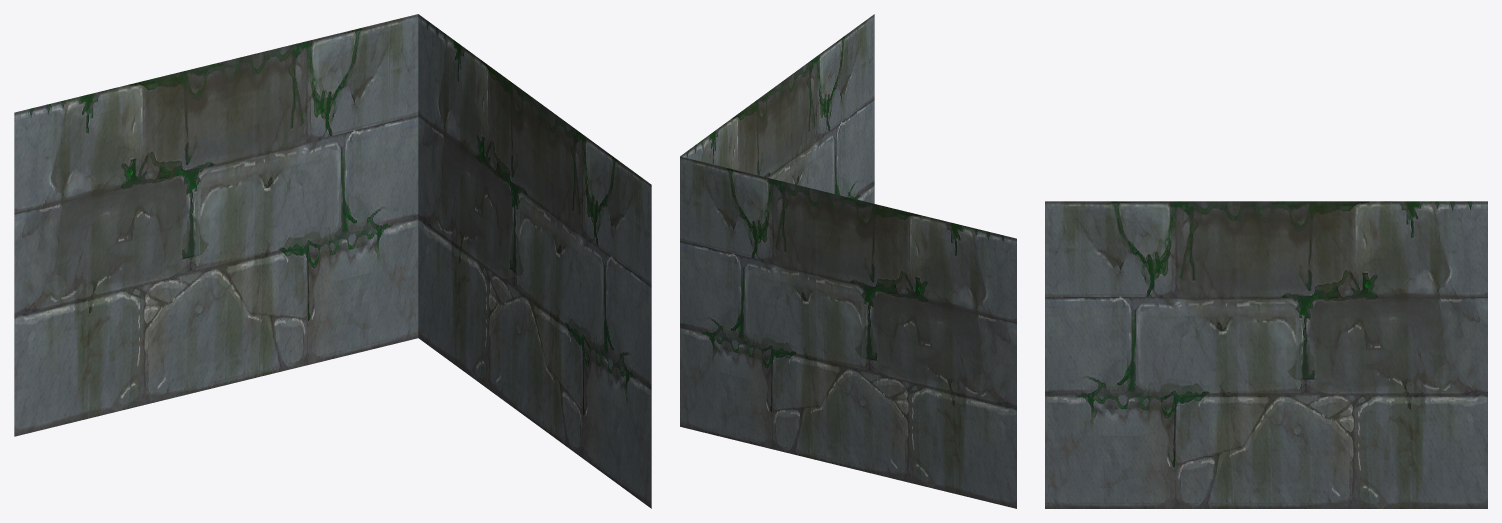
Rendered from stemple_half_concave_02.fbx.
3 renders of one model, left to right at view 1: azimuth 30°, elevation 25°; view 2: azimuth 150°, elevation 25°; view 3: azimuth 270°, elevation 25°, orthographic. The views are drawn at different scales.
Parts seen in each view (by area): view 1: sunken_tileset/sunken_wall_straight03_mat; view 2: sunken_tileset/sunken_wall_straight03_mat; view 3: sunken_tileset/sunken_wall_straight03_mat.
Part boxes in pixels (x1,y1,x2,y2): sunken_tileset/sunken_wall_straight03_mat: [14, 14, 651, 508]; sunken_tileset/sunken_wall_straight03_mat: [680, 14, 1016, 508]; sunken_tileset/sunken_wall_straight03_mat: [1045, 201, 1487, 508].
Size of the model in its own units: 3.59 by 2.75 by 3.59.
